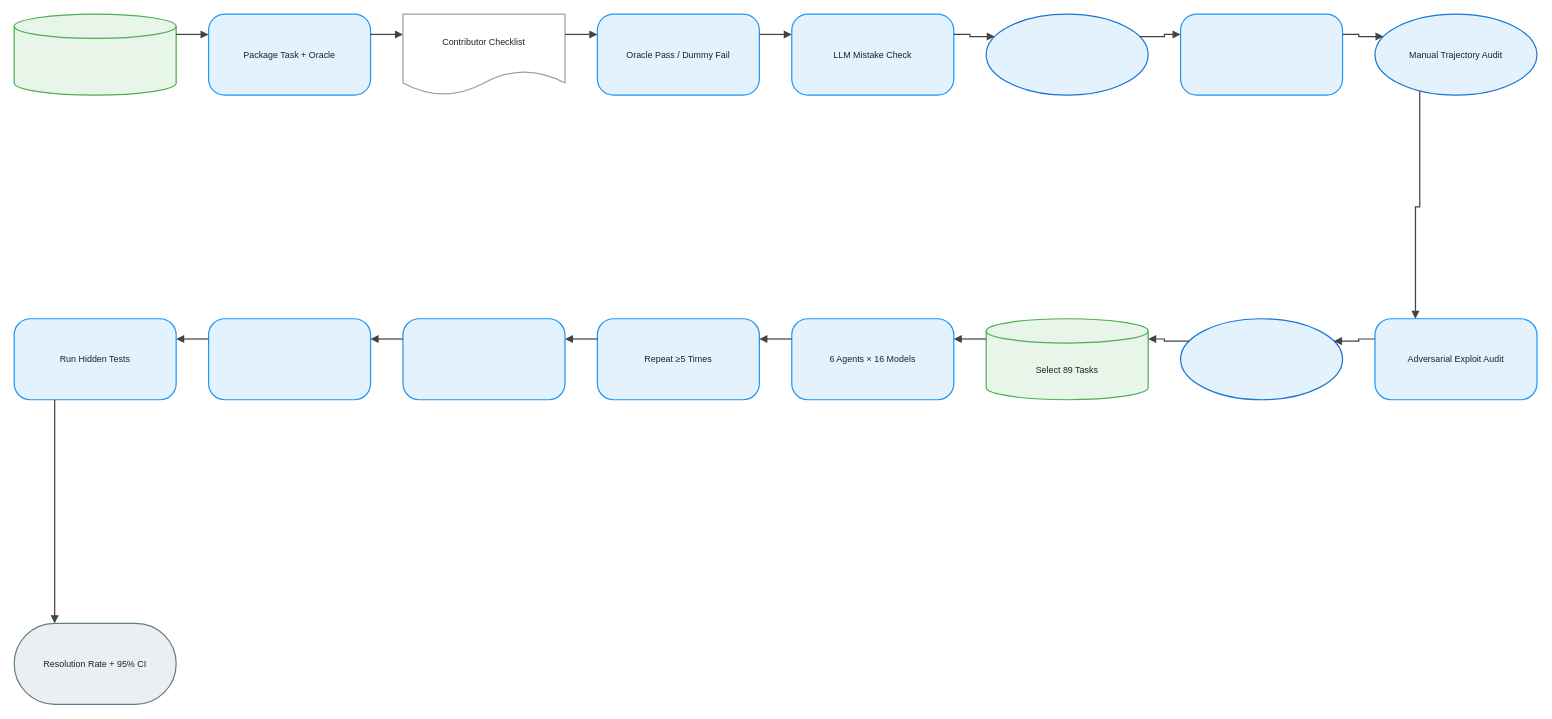
The diagram is 1552 pixels wide and 719 high, and some of its shapes have lost their labels. Each missing label, with the centre of its shape:
"32,155 Attempts" belongs at pixel 483 359.
"Crowdsource 229 / 93" belongs at pixel 94 54.
"Initial Expert Review" belongs at pixel 1066 54.
"Modify Container" belongs at pixel 289 359.
"Run Models + Terminus 2" belongs at pixel 1261 54.
"Two Final Auditors" belongs at pixel 1261 359.
